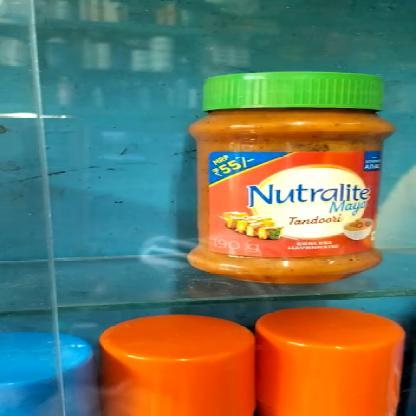Nutralite TANDOORI MAYO 300g-275g-25g-: (188, 72, 392, 280)
